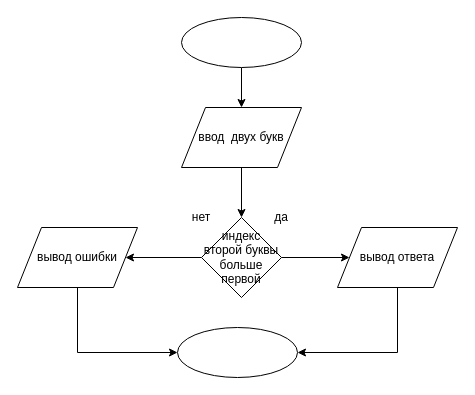
This 475x395 diagram has some shape labels left out. The centre of each missing label's shape, as x and y in pixels:
Конец: point 237,352
Начало: point 241,42
